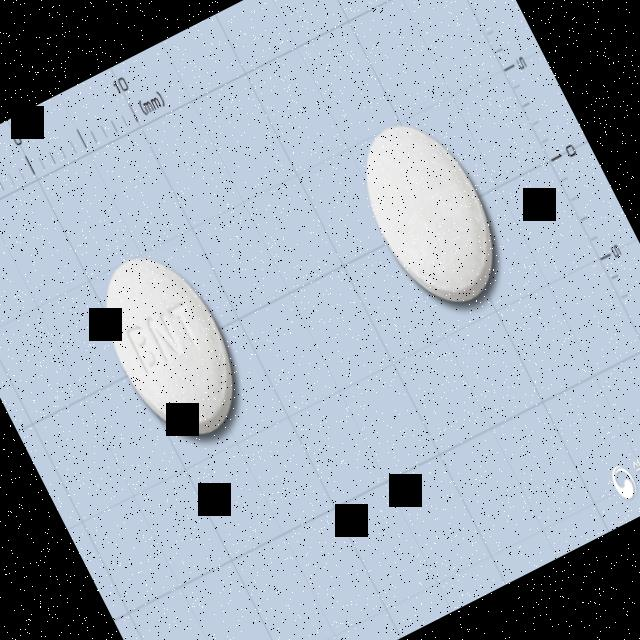Banan: (76, 231, 266, 462)
